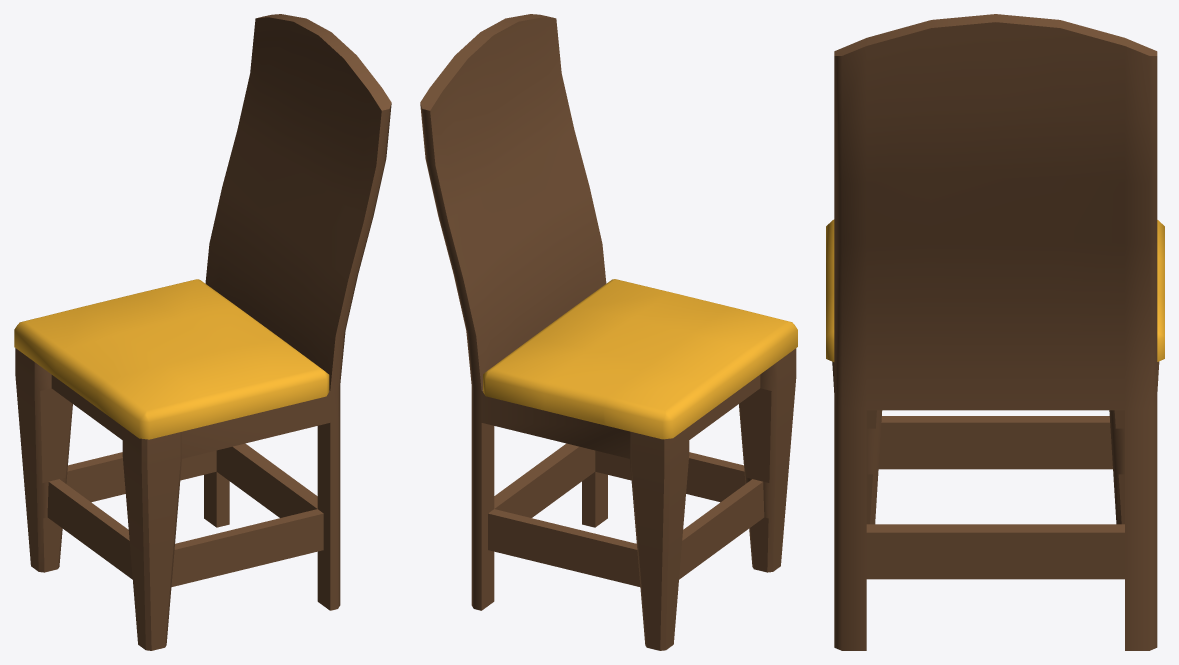
The model's file is Chair_Frame.fbx.
3 views of the same model, side by side, from view 1: azimuth 30°, elevation 25°; view 2: azimuth 150°, elevation 25°; view 3: azimuth 270°, elevation 25° (orthographic). The views are drawn at different scales.
Visible parts, largest first — view 1: Chair_Frame; view 2: Chair_Frame; view 3: Chair_Frame.
Boxes of the visible parts, bbox=[...] form: Chair_Frame: bbox=[14, 14, 391, 650]; Chair_Frame: bbox=[420, 14, 797, 650]; Chair_Frame: bbox=[826, 14, 1164, 650].
Size of the model in its own units: 54.99 by 106 by 49.43.
2 materials, 2 textured.
